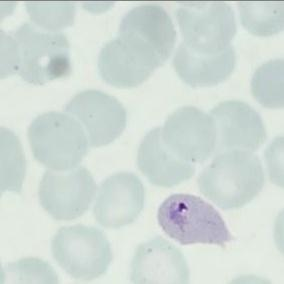Infected: (155, 192, 236, 254)
Uninfected: (194, 147, 264, 212), (9, 20, 73, 87), (28, 112, 90, 169), (205, 99, 268, 155), (52, 223, 112, 281), (120, 6, 173, 71), (65, 89, 126, 145), (139, 124, 194, 186), (91, 169, 145, 232), (98, 33, 153, 91), (39, 164, 92, 222), (177, 0, 237, 51), (130, 231, 187, 284), (162, 104, 214, 162), (176, 37, 236, 87)
